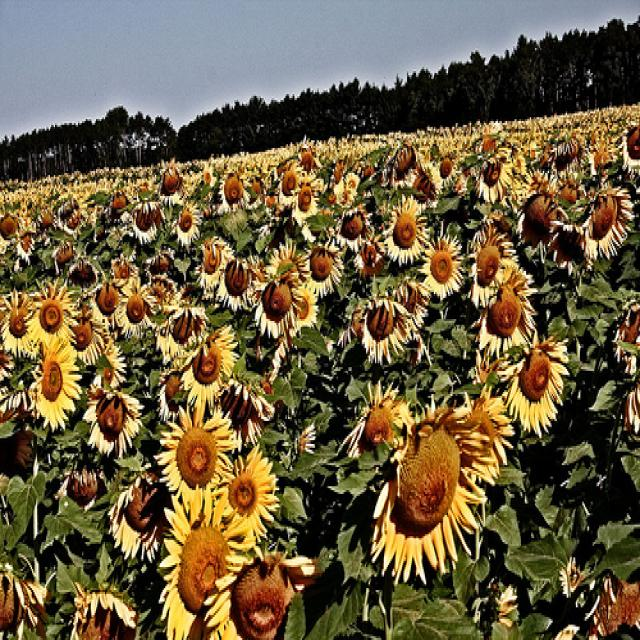sunflower: (370, 404, 499, 596), (163, 484, 236, 640), (214, 542, 308, 640), (154, 411, 235, 498), (211, 441, 281, 537), (476, 260, 534, 364), (506, 346, 568, 429), (110, 478, 172, 558), (181, 320, 236, 410), (60, 582, 144, 640), (84, 381, 144, 461), (576, 184, 632, 264), (32, 339, 79, 424), (154, 300, 210, 371), (360, 292, 408, 369), (381, 192, 429, 269), (513, 184, 570, 247), (0, 561, 45, 640), (419, 229, 467, 300), (255, 267, 302, 338), (30, 280, 76, 350), (474, 149, 516, 210), (304, 235, 345, 297), (476, 234, 511, 306), (192, 234, 230, 295), (61, 462, 109, 510), (115, 282, 154, 336), (219, 252, 256, 307), (386, 137, 418, 197), (88, 274, 123, 324), (335, 210, 369, 258), (150, 160, 184, 204), (174, 199, 202, 251), (218, 163, 245, 216), (290, 181, 319, 223), (130, 206, 159, 246), (101, 187, 131, 224), (0, 208, 22, 251)
